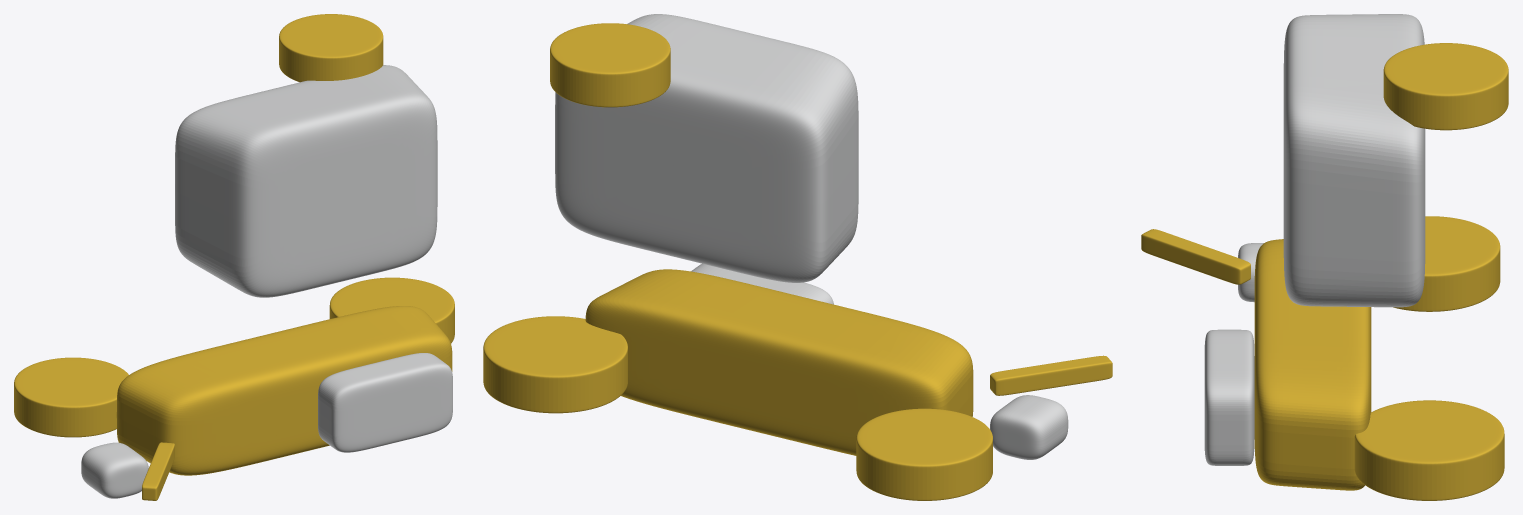
Rendered from motorcycle_sidecar_sq.glb.
3 views of the same model, side by side, from view 1: azimuth 30°, elevation 25°; view 2: azimuth 150°, elevation 25°; view 3: azimuth 270°, elevation 25° (orthographic). The views are drawn at different scales.
Parts seen in each view (by area): view 1: superquadric_3, superquadric_0, superquadric_5, superquadric_1, superquadric_4, superquadric_2, superquadric_7, superquadric_6; view 2: superquadric_3, superquadric_0, superquadric_2, superquadric_1, superquadric_4, superquadric_7, superquadric_6, superquadric_5; view 3: superquadric_3, superquadric_0, superquadric_2, superquadric_4, superquadric_5, superquadric_1, superquadric_6, superquadric_7.
Boxes of the visible parts, x1,y1,x2,y2 form: superquadric_3: [175, 65, 437, 297]; superquadric_0: [116, 306, 452, 475]; superquadric_5: [318, 353, 452, 452]; superquadric_1: [14, 357, 128, 437]; superquadric_4: [279, 14, 383, 82]; superquadric_2: [329, 277, 454, 343]; superquadric_7: [81, 442, 148, 498]; superquadric_6: [142, 442, 174, 500]; superquadric_3: [555, 14, 858, 282]; superquadric_0: [585, 269, 973, 455]; superquadric_2: [483, 316, 627, 413]; superquadric_1: [856, 408, 992, 500]; superquadric_4: [550, 23, 670, 107]; superquadric_7: [990, 395, 1068, 459]; superquadric_6: [990, 355, 1112, 395]; superquadric_5: [691, 263, 833, 304]; superquadric_3: [1283, 14, 1425, 307]; superquadric_0: [1254, 239, 1371, 490]; superquadric_2: [1354, 400, 1504, 500]; superquadric_4: [1383, 43, 1508, 130]; superquadric_5: [1204, 329, 1254, 465]; superquadric_1: [1393, 216, 1500, 311]; superquadric_6: [1141, 229, 1250, 284]; superquadric_7: [1238, 243, 1263, 302].
Size of the model in its own units: 1 by 0.7575 by 0.6254.
